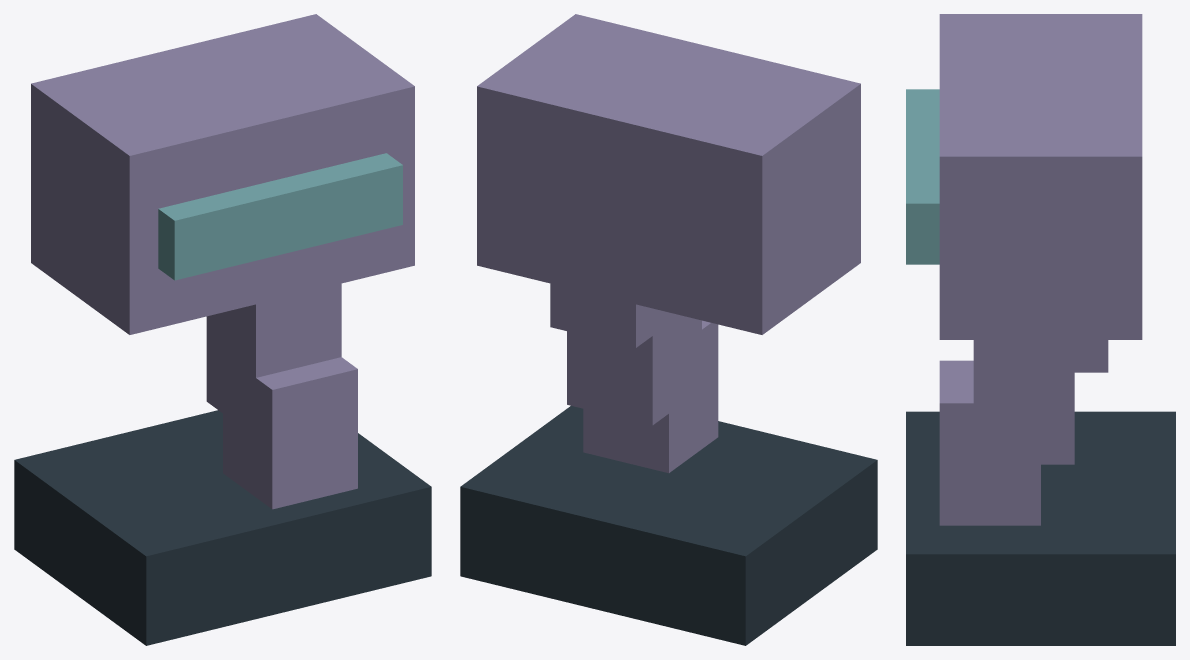
File: astronomy-14.glb
3 views of the same model, side by side, from view 1: azimuth 30°, elevation 25°; view 2: azimuth 150°, elevation 25°; view 3: azimuth 270°, elevation 25° (orthographic). The views are drawn at different scales.
Visible parts, largest first — view 1: Spectrometer; view 2: Spectrometer; view 3: Spectrometer.
Boxes of the visible parts, x1,y1,x2,y2 form: Spectrometer: (14,14,431,645); Spectrometer: (460,14,877,645); Spectrometer: (906,14,1175,645).
Bounding box in the file's own units: 0.8 × 1.28 × 0.64.
